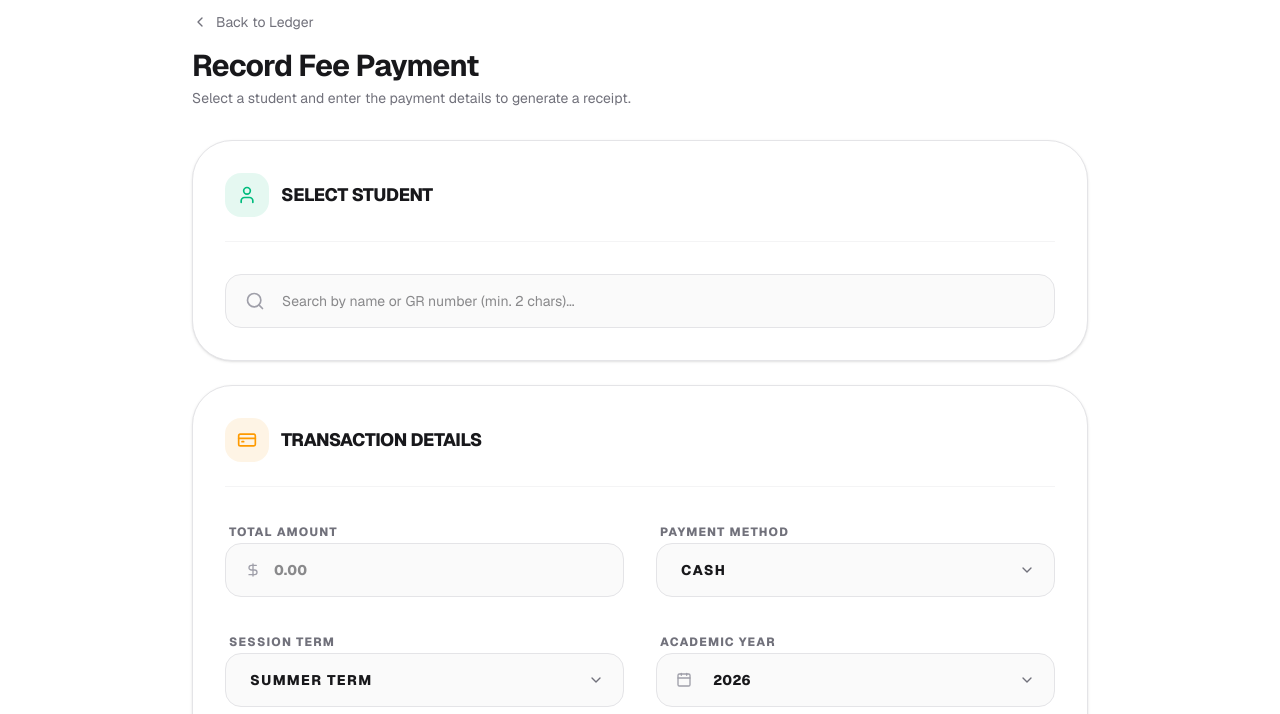
it: AddFeePage (Payment Workflow) › searches and selects a student
Type "John" into the field with placeholder "Search by name or GR number (min. 2 chars)..." at point(640, 301), box [225,274,1055,328]
Wait 300 ms
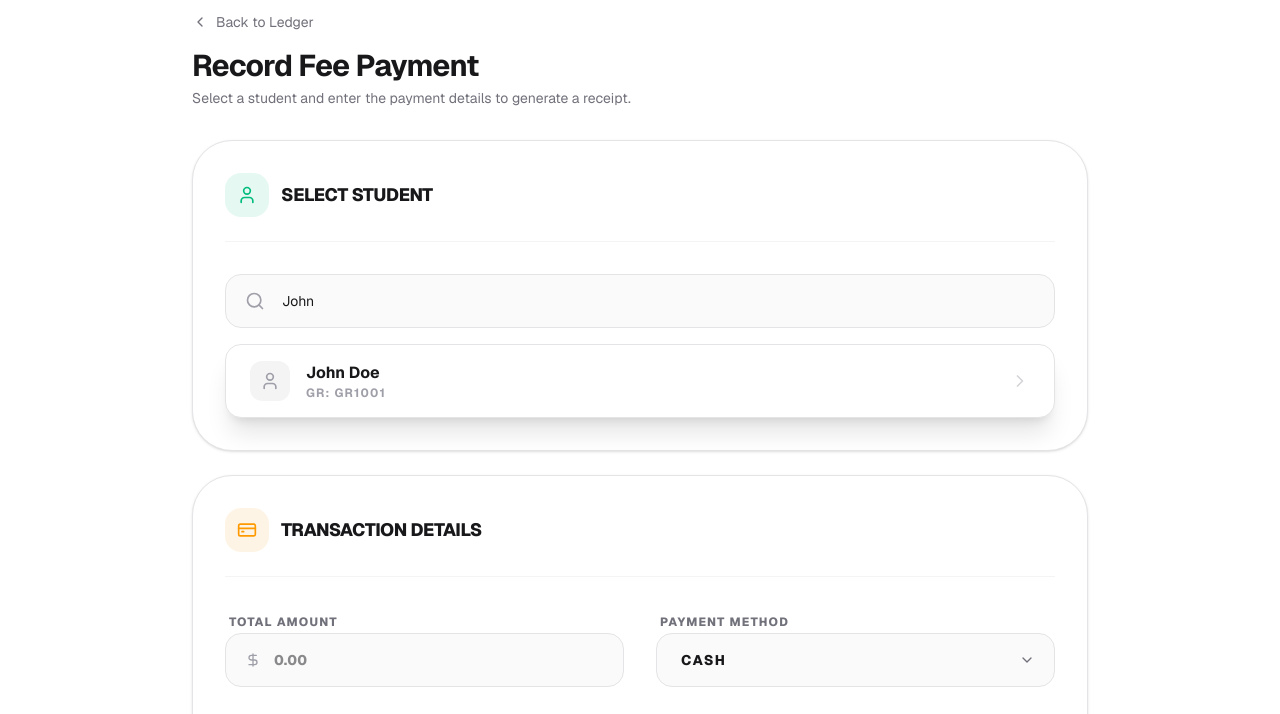
Check: the text "John Doe" is shown
Click the text "John Doe" at point(346, 373), box [306,361,386,385]
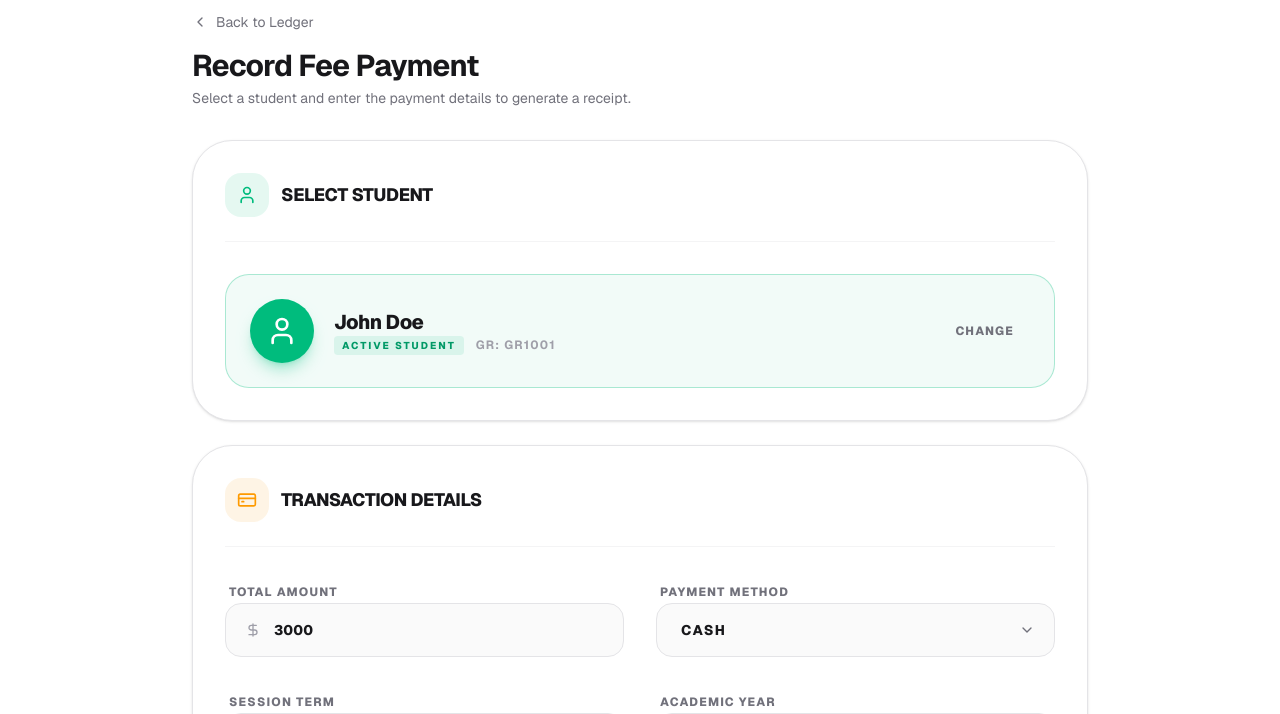
Check: the number field showing "3000" is shown, box [225,603,624,657]
